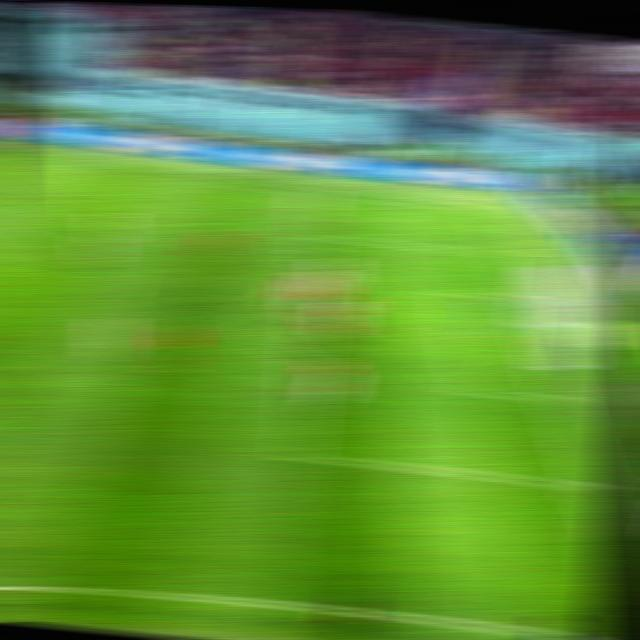bigarea_bottom_inner: (275, 441, 321, 467)
bigarea_bottom_outter: (573, 476, 612, 498)
bigarea_top_inner: (297, 227, 334, 245)
bigarea_top_outter: (484, 243, 521, 261)
bottom_arc_area_intersection: (284, 351, 324, 374)
corner: (468, 200, 506, 216)
smallarea_bottom_inner: (451, 373, 494, 402)
smallarea_bottom_outter: (537, 385, 580, 410)
smallarea_top_inner: (432, 280, 472, 301)
smallarea_top_outter: (501, 285, 539, 306)
